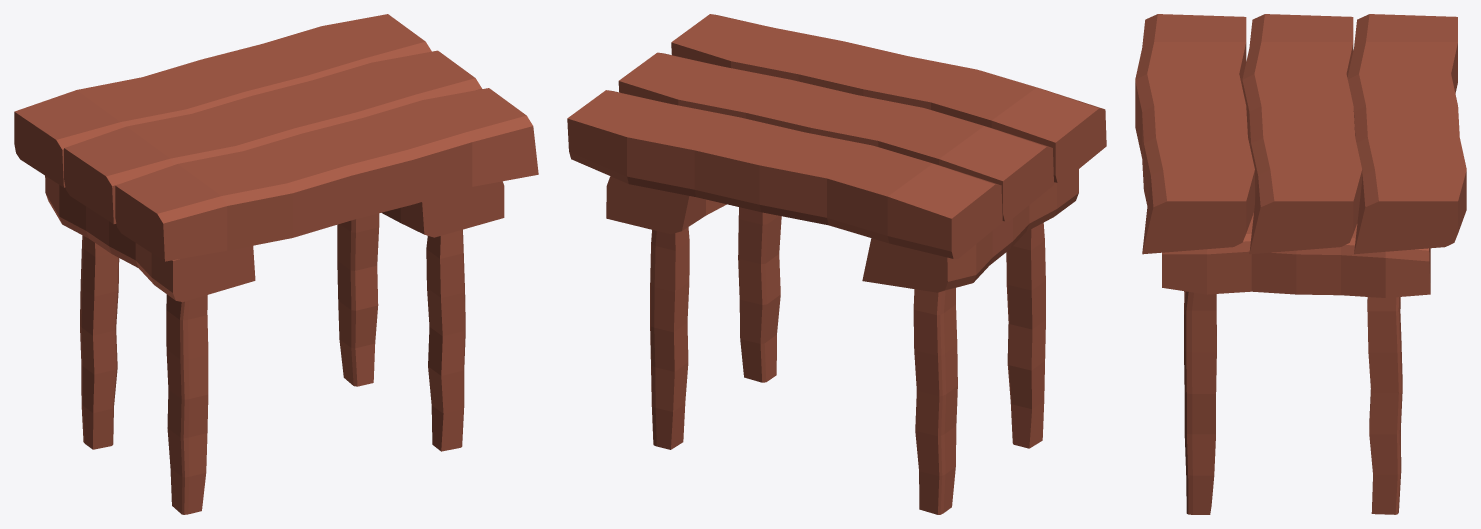
File: stool.fbx
The picture shows the model from 3 angles, left to right: view 1: azimuth 30°, elevation 25°; view 2: azimuth 150°, elevation 25°; view 3: azimuth 270°, elevation 25°; orthographic projection. The views are drawn at different scales.
Parts seen in each view (by area): view 1: stool; view 2: stool; view 3: stool.
Part boxes in pixels (bbox=[...]): stool: bbox=[14, 14, 538, 514]; stool: bbox=[567, 14, 1106, 514]; stool: bbox=[1135, 14, 1466, 514].
Bounding box in the file's own units: 60.19 × 50.05 × 44.08.
Materials: 1 (1 with a texture image).
